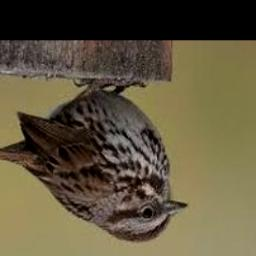Sparrow: (0, 77, 188, 243)
